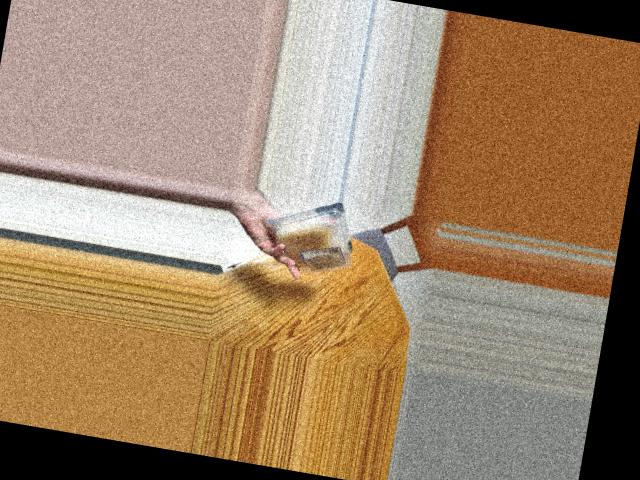cheese: (269, 198, 359, 278)
